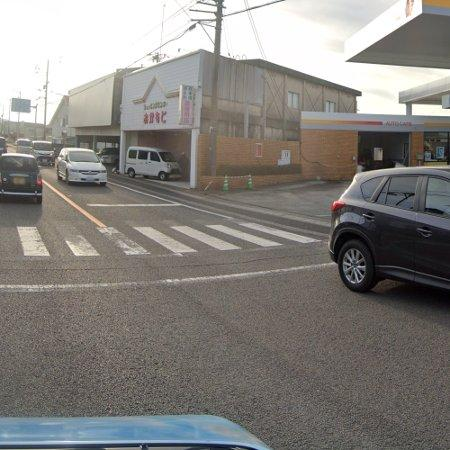crosswalks: (18, 220, 325, 257)
